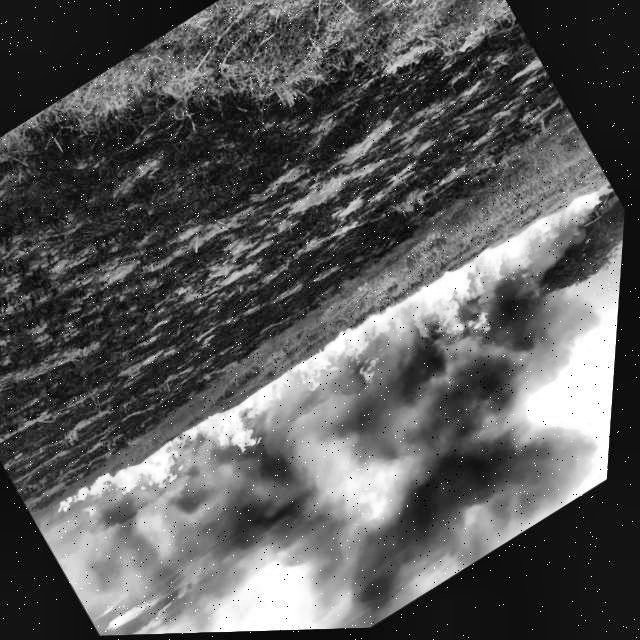Fire: (53, 170, 630, 579)
Smoke: (60, 242, 627, 638)
